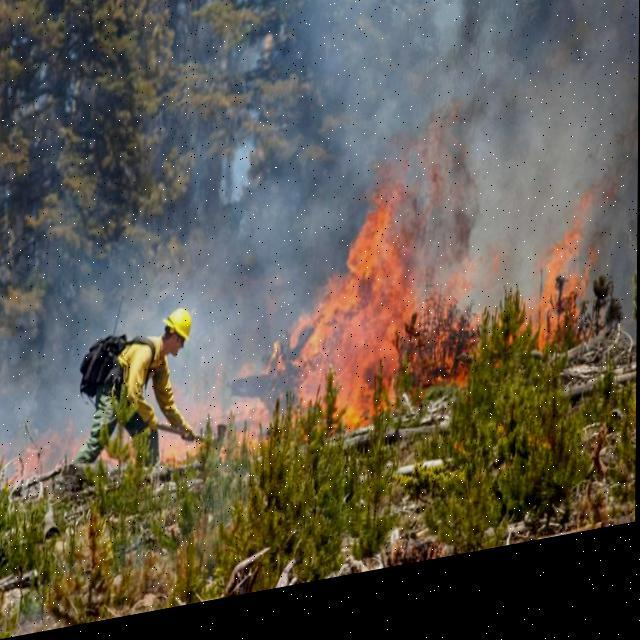Fire: (26, 160, 606, 496)
